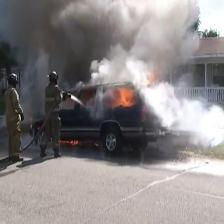smoke: (44, 5, 189, 65)
